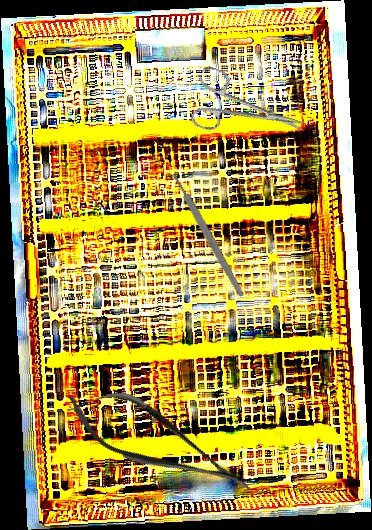Iris Scissors: (185, 64, 314, 159)
Micro Scissor: (55, 369, 265, 517)
Scalpel Handle: (170, 171, 246, 299)
